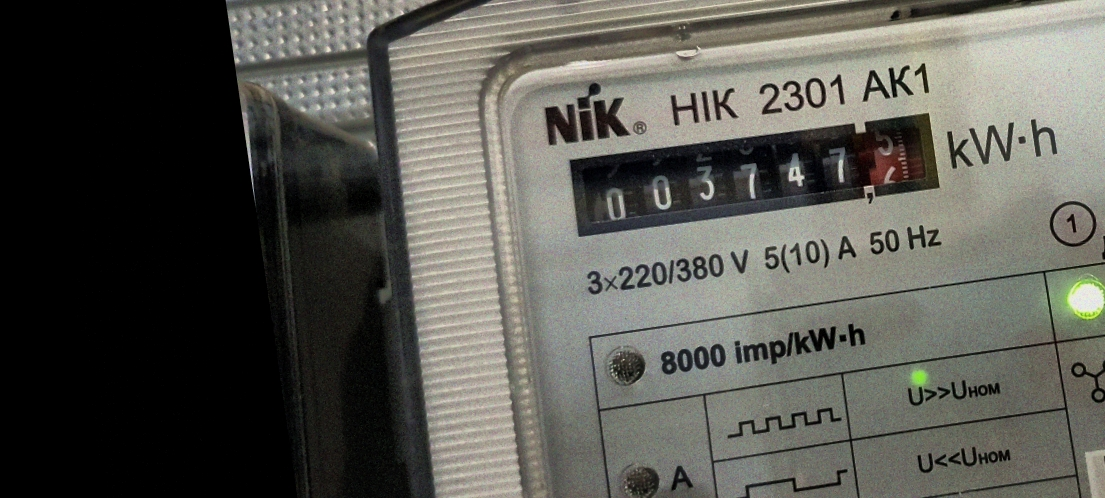0: (649, 171, 674, 211), (602, 184, 629, 221)
3: (694, 163, 718, 202)
4: (782, 148, 808, 191)
5: (873, 126, 896, 157)
6: (879, 162, 900, 185)
7: (825, 142, 853, 185), (738, 159, 763, 201)
screen: (557, 95, 957, 255)
